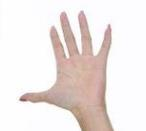down: (17, 8, 114, 110)
